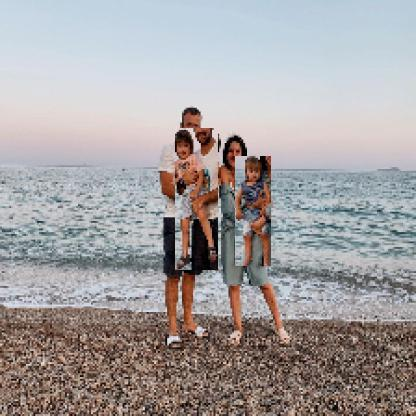child: (176, 129, 220, 272), (236, 157, 273, 268)
